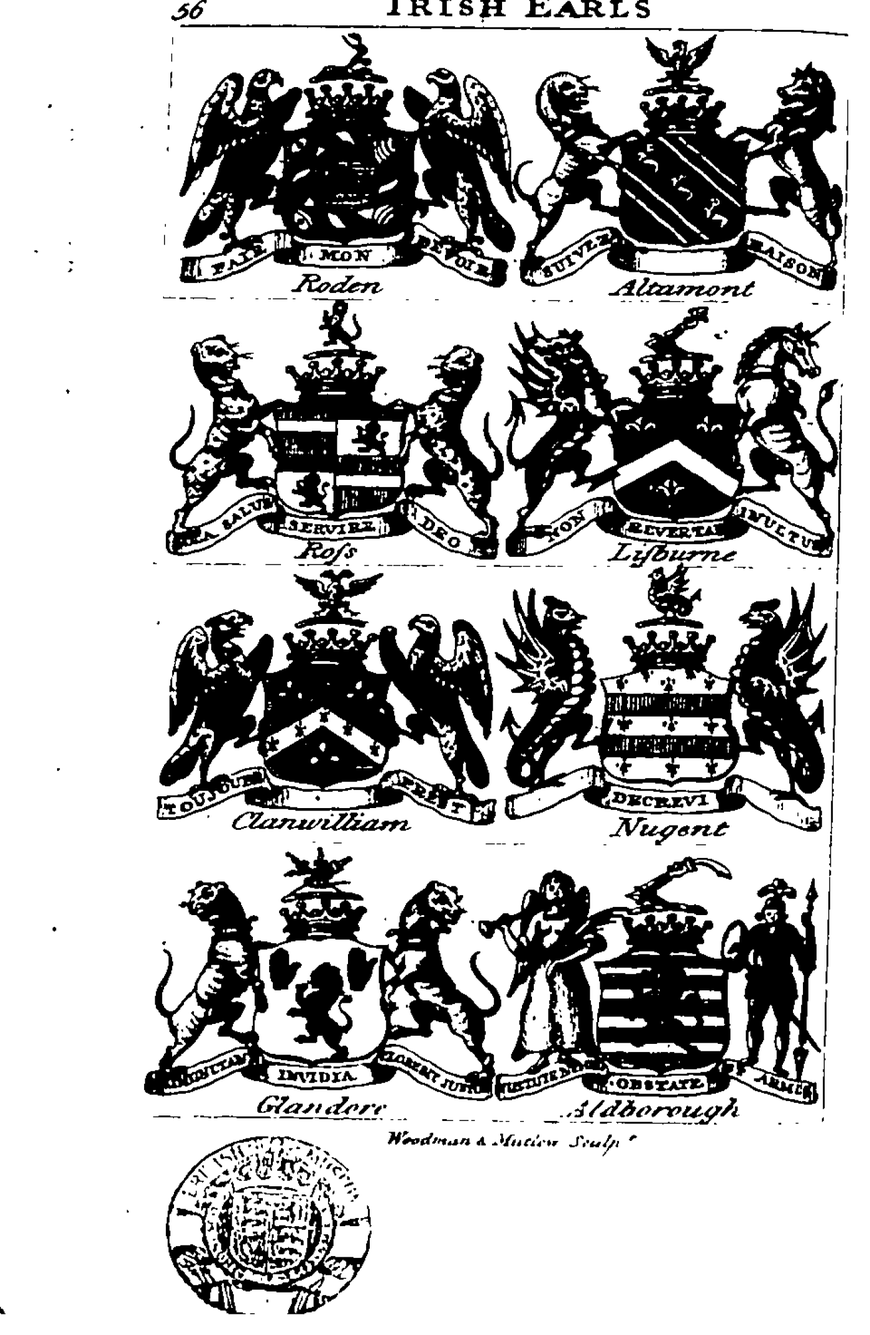coat_of_arms: (153, 839, 497, 1118), (493, 567, 831, 847), (495, 836, 822, 1125), (506, 37, 846, 309), (503, 304, 839, 574), (178, 34, 508, 304), (178, 567, 501, 841), (181, 305, 501, 573)
